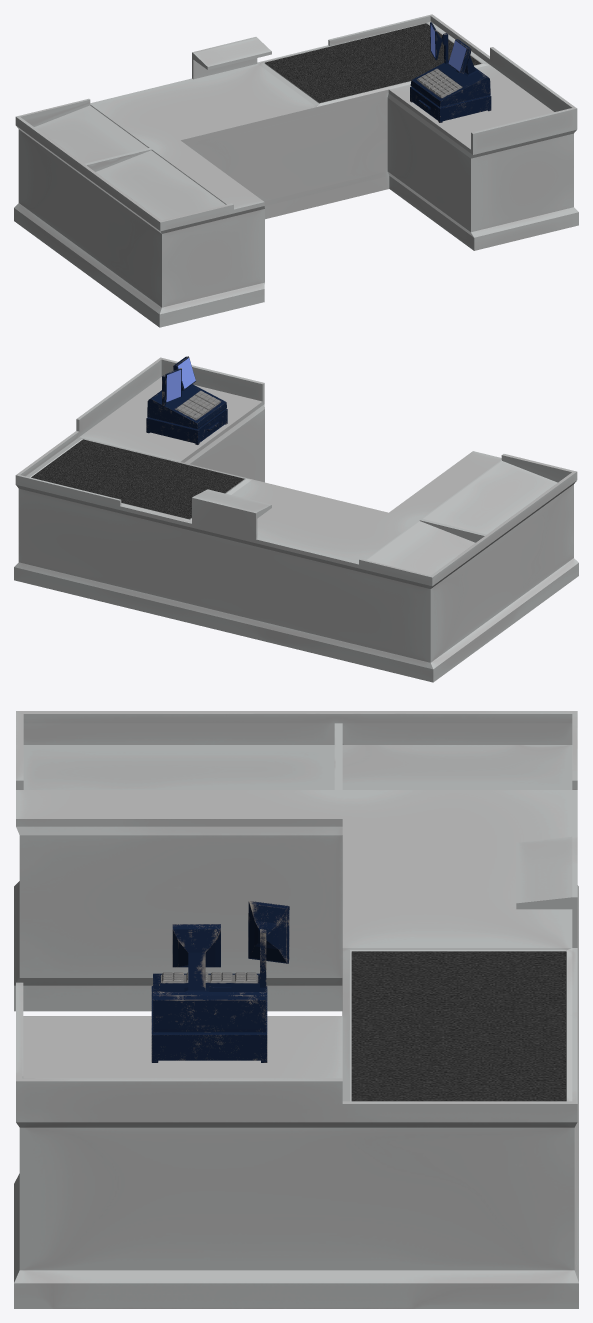
The model's file is cashRegister_EMBED.fbx.
3 views of the same model, one above another, from view 1: azimuth 30°, elevation 25°; view 2: azimuth 150°, elevation 25°; view 3: azimuth 270°, elevation 25° (orthographic). The views are drawn at different scales.
Visible parts, largest first — view 1: Desk, Machine; view 2: Desk, Machine; view 3: Desk, Machine.
Boxes of the visible parts, left/top/right/bottom form: Desk: left=14, top=14, right=578, bottom=327; Machine: left=410, top=22, right=491, bottom=122; Desk: left=14, top=357, right=578, bottom=682; Machine: left=146, top=356, right=227, bottom=444; Desk: left=14, top=711, right=578, bottom=1308; Machine: left=151, top=901, right=289, bottom=1062.
Bounding box in the file's own units: 1720 × 667 × 1035.
4 materials, 3 textured.
